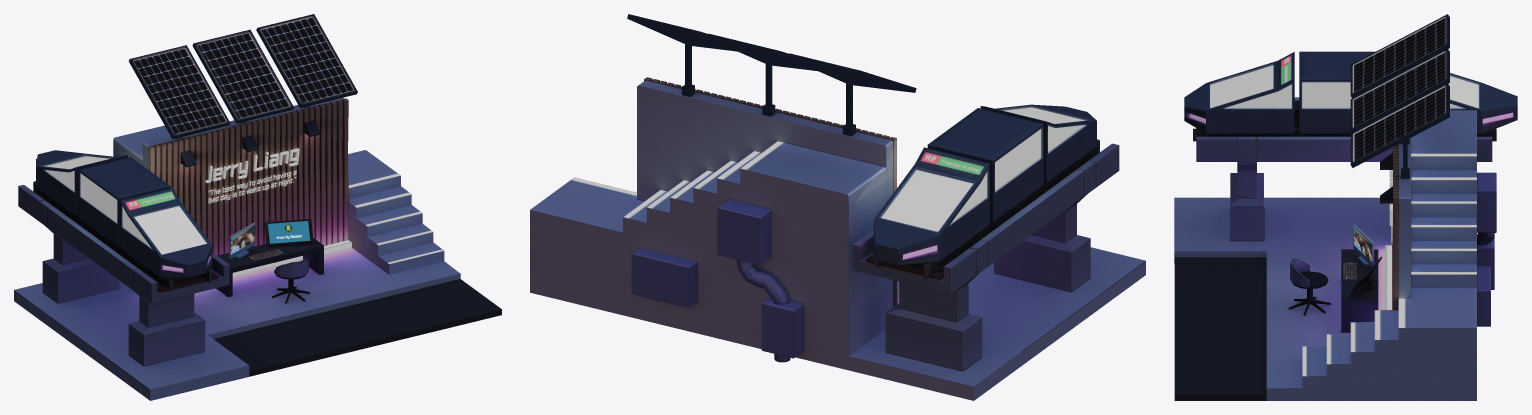
The model's file is The Jerry Station.glb.
The picture shows the model from 3 angles, left to right: view 1: azimuth 30°, elevation 25°; view 2: azimuth 150°, elevation 25°; view 3: azimuth 270°, elevation 25°; orthographic projection. The views are drawn at different scales.
Parts seen in each view (by area): view 1: Cube.001, Cube, Solar Panels, Cube.015, Cube.014, Cube.012, Cube.002, Plane.001, Plane.010, Name, Cintiq Screen, Cylinder.003 (+4 smaller); view 2: Cube.001, Cube.015, Cube.014, Cube.002, Cube.010, Cube.003, Cube.004, Plane.010, Cube, Cylinder, Plane.008; view 3: Cube.001, Cube.015, Cube.012, Solar Panels, Cube.014, Cube.002, Plane.001, Cube.003, Cylinder.003, Cube, Cube.010, Plane.010 (+4 smaller).
Boxes of the visible parts, left/top/right/bottom form: Cube.001: left=14, top=97, right=460, bottom=400; Cube: left=148, top=98, right=348, bottom=255; Solar Panels: left=134, top=17, right=353, bottom=133; Cube.015: left=36, top=150, right=212, bottom=278; Cube.014: left=18, top=185, right=229, bottom=366; Cube.012: left=214, top=279, right=501, bottom=376; Cube.002: left=128, top=14, right=357, bottom=139; Plane.001: left=216, top=238, right=323, bottom=296; Plane.010: left=33, top=181, right=211, bottom=291; Name: left=205, top=148, right=299, bottom=182; Cintiq Screen: left=268, top=221, right=310, bottom=243; Cylinder.003: left=272, top=259, right=309, bottom=303; Cube.001: left=530, top=80, right=1145, bottom=400; Cube.015: left=873, top=104, right=1096, bottom=265; Cube.014: left=852, top=143, right=1119, bottom=371; Cube.002: left=627, top=14, right=916, bottom=136; Cube.010: left=631, top=247, right=697, bottom=307; Cube.003: left=717, top=199, right=771, bottom=265; Cube.004: left=761, top=297, right=803, bottom=358; Plane.010: left=874, top=139, right=1099, bottom=278; Cube: left=644, top=77, right=897, bottom=306; Cylinder: left=736, top=260, right=790, bottom=362; Plane.008: left=866, top=153, right=1097, bottom=279; Cube.001: left=1174, top=110, right=1476, bottom=400; Cube.015: left=1184, top=51, right=1517, bottom=133; Cube.012: left=1174, top=257, right=1266, bottom=400; Solar Panels: left=1354, top=18, right=1444, bottom=161; Cube.014: left=1196, top=97, right=1492, bottom=241; Cube.002: left=1350, top=14, right=1449, bottom=178; Plane.001: left=1341, top=249, right=1378, bottom=332; Cube.003: left=1477, top=172, right=1496, bottom=232; Cylinder.003: left=1288, top=258, right=1330, bottom=315; Cube: left=1392, top=144, right=1398, bottom=309; Cube.010: left=1477, top=266, right=1490, bottom=326; Plane.010: left=1193, top=107, right=1496, bottom=141.
Size of what is drawn, in the model's own units: 3.81 by 2.36 by 2.9.
Materials: 34 (33 with a texture image).
